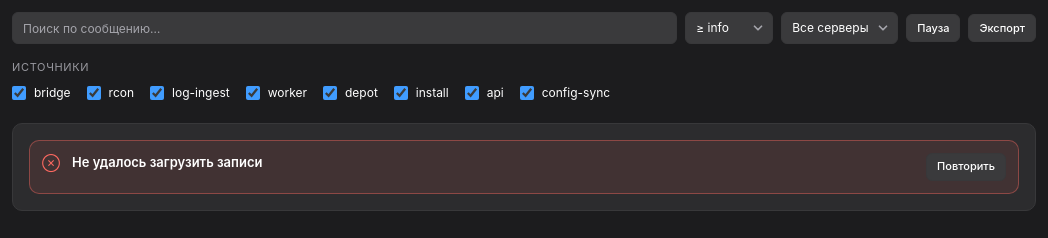
LogList › shows a retryable error instead of an endless skeleton when the first load fails
Expected: the text "Не удалось загрузить записи" is shown, top-left (72, 154), bottom-right (262, 170)
Click the button "Повторить": point(966, 167) top-left (926, 153), bottom-right (1006, 181)
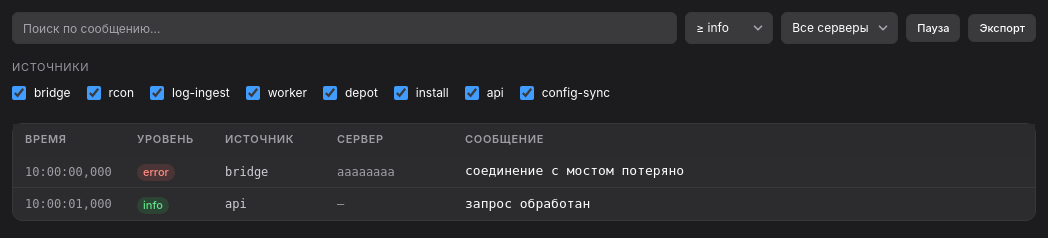
Expected: the text "запрос обработан" is shown, top-left (453, 188), bottom-right (1035, 220)
